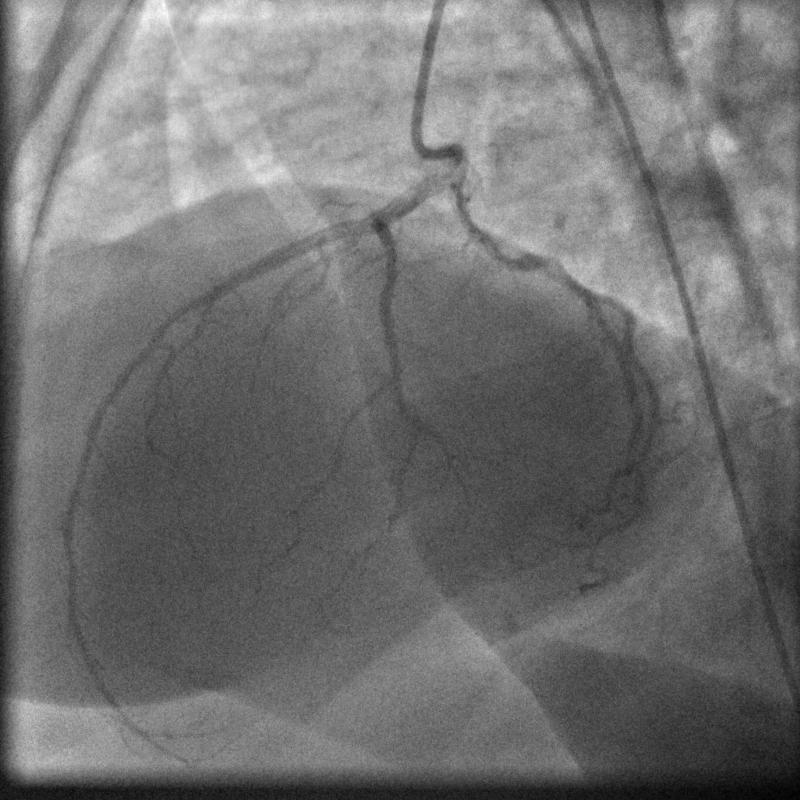Stenosis: (492, 230, 538, 280)
